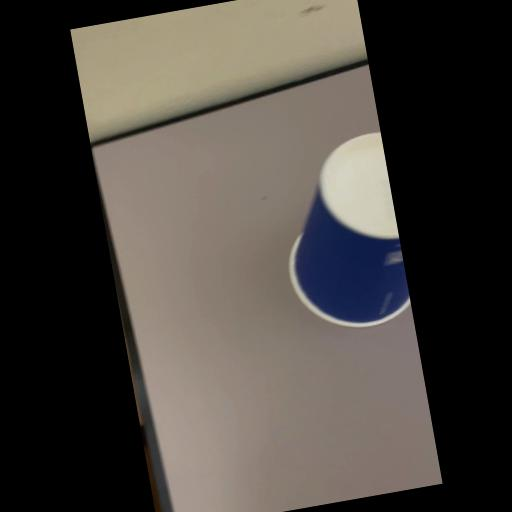lp_paper_cup: (262, 130, 414, 340)
